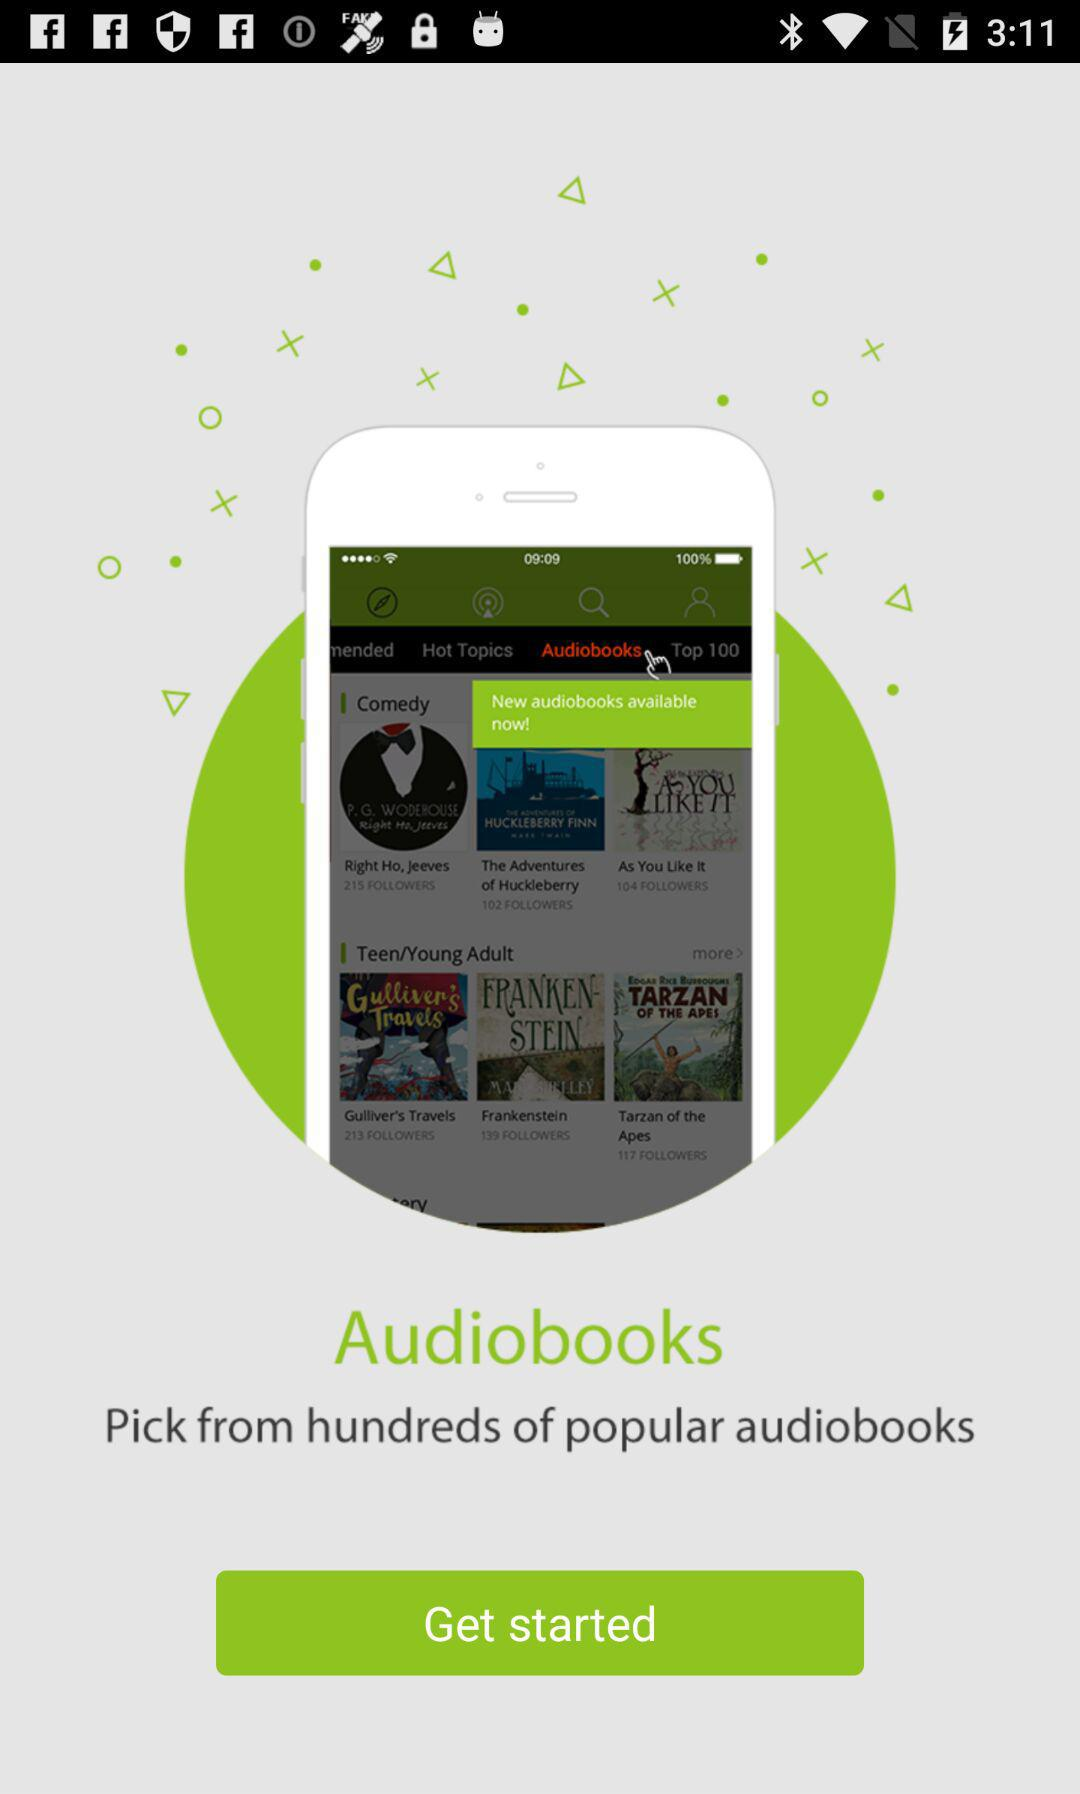Image: (95, 173, 913, 1231)
Text: (106, 1404, 975, 1454), (334, 1307, 724, 1366)
TextButton: (215, 1568, 865, 1676)
UpperTaskBar: (1, 1, 1080, 64)
